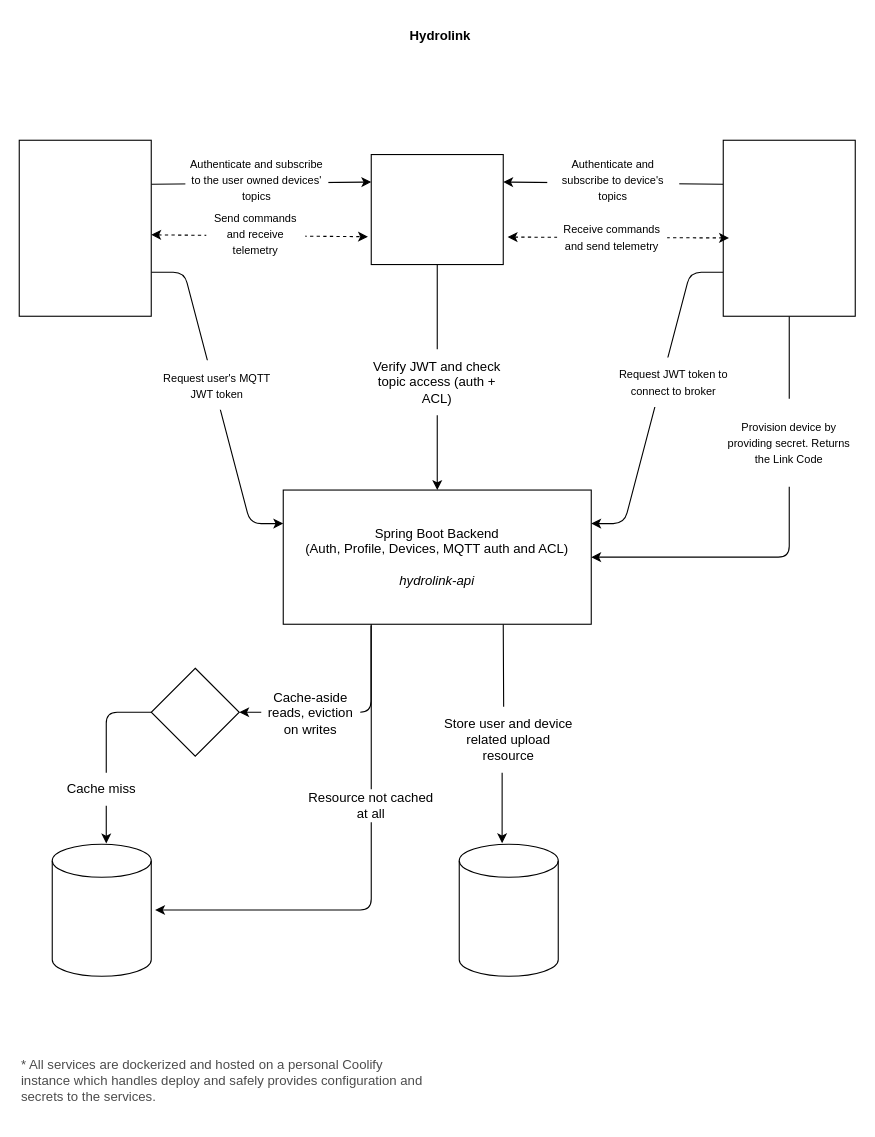
The diagram is 875 pixels wide and 1137 high, and some of its shapes have lost their labels. The box of each missing label's shape, as (x1, y1, x2, y2) in pixels:
ESP32 Firmware hydrolink-core: (722, 139, 855, 316)
MinIO blob storage: (458, 843, 558, 976)
Mobile App (React Native / Expo) hydrolink-app: (18, 139, 151, 316)
NanoMQ broker: (370, 153, 503, 265)
PostgreSQL DB: (51, 843, 151, 976)
Redis Cache: (150, 667, 239, 756)
